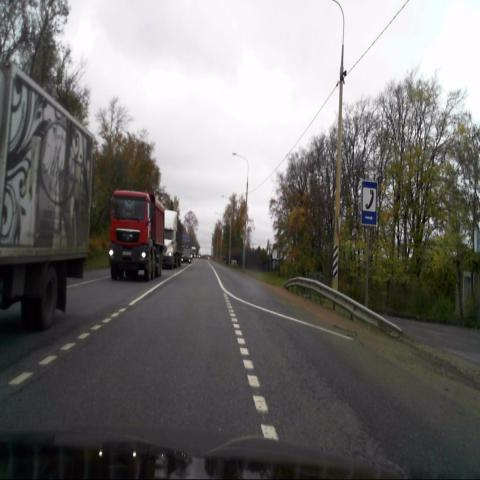7_6: (361, 179, 377, 227)
